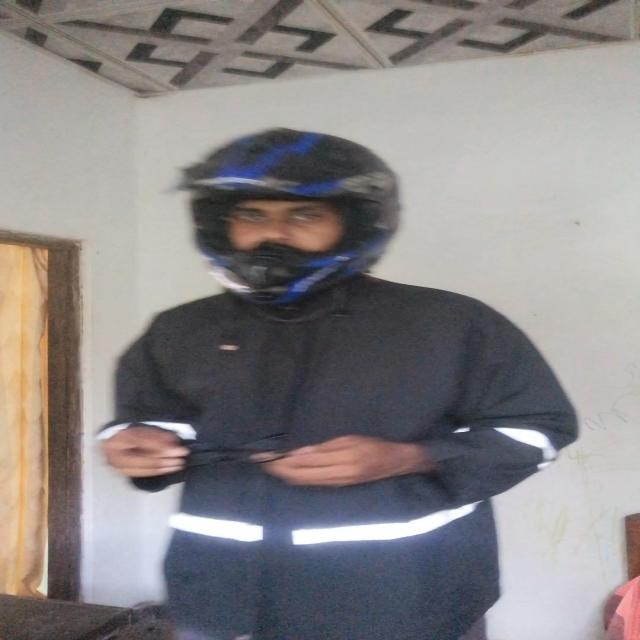Helmet_Wearer: (154, 128, 415, 314)
Jacket_Wearer: (83, 269, 583, 640)
Person: (109, 126, 577, 640)
